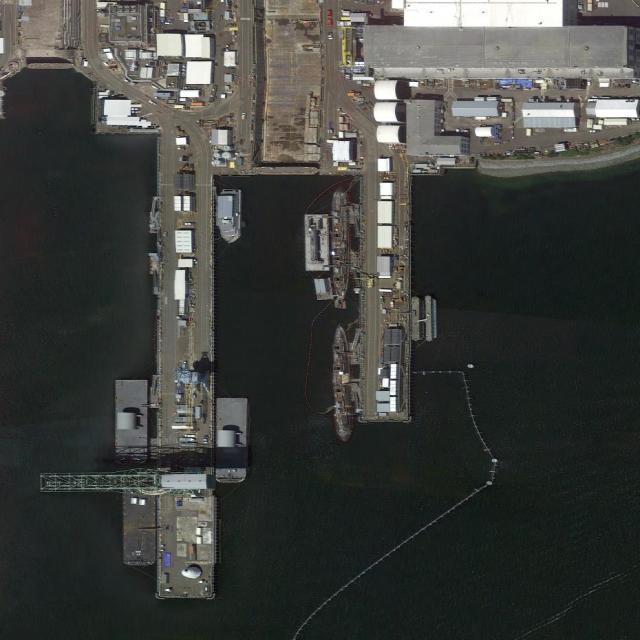Dock: (155, 175, 213, 600), (361, 176, 409, 423)
Other Warship: (218, 189, 243, 246)
Submarine: (332, 322, 355, 443), (333, 186, 350, 299)
